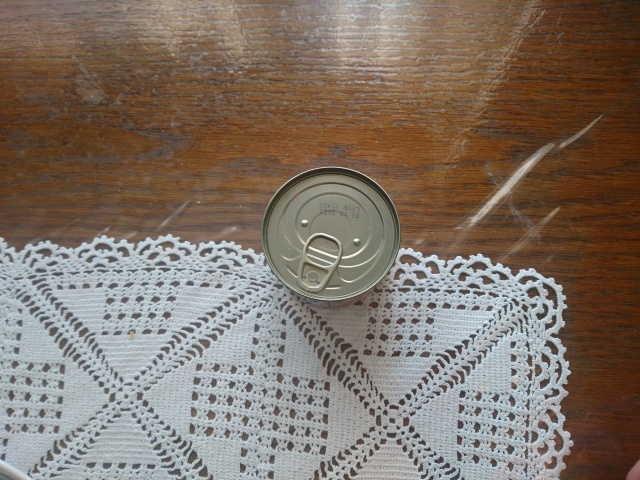Podravka Luncheon Meat 150g: (258, 163, 404, 312)
